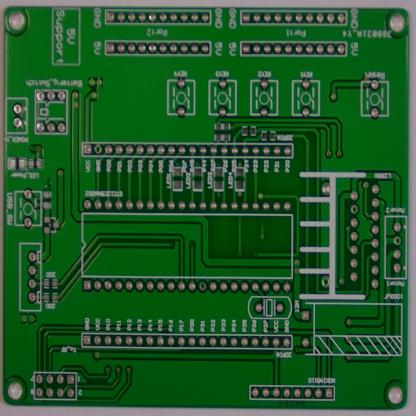missing_hole: (197, 279, 208, 293), (348, 203, 360, 215), (320, 275, 330, 289), (93, 144, 102, 156), (393, 235, 402, 246)
